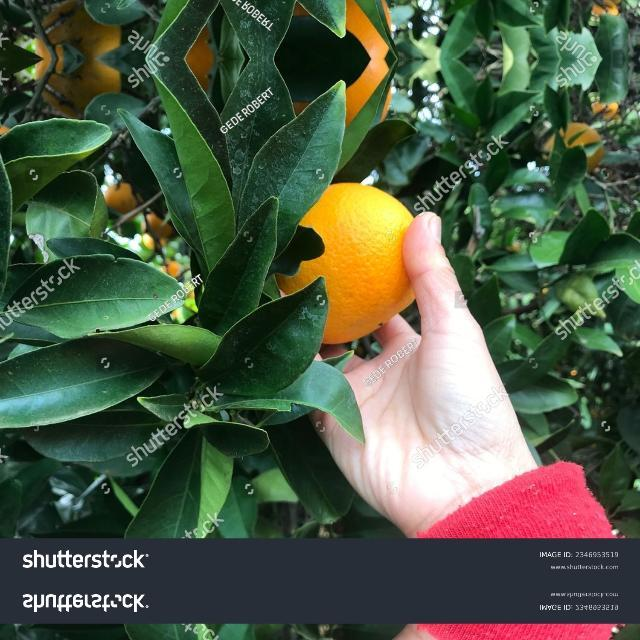Orange: (273, 181, 417, 344), (31, 0, 123, 118), (559, 120, 604, 172)
